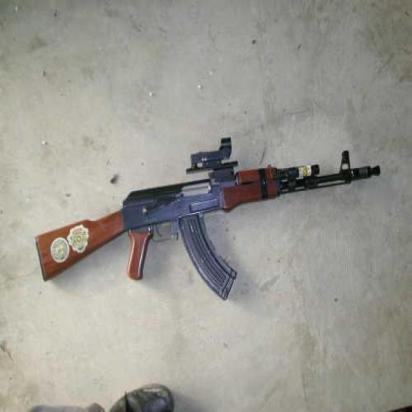Gun: (34, 136, 381, 304)
